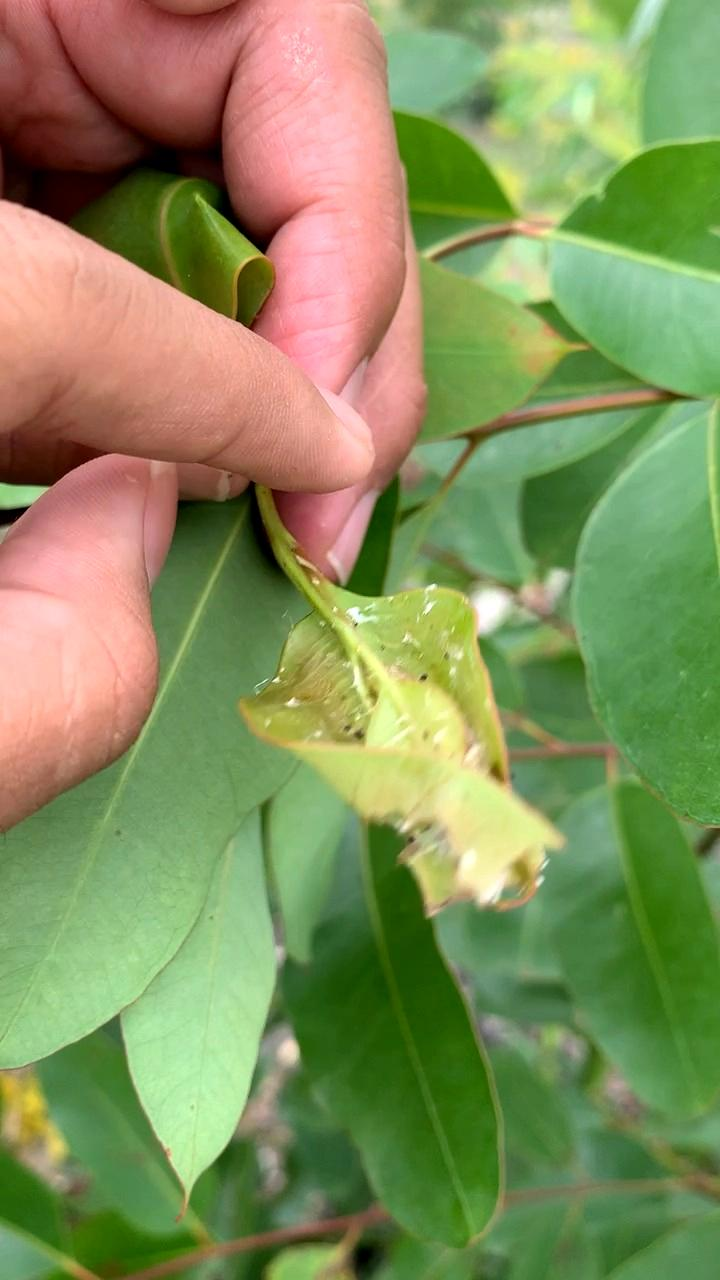Leaf Roller - Leaf: (233, 572, 576, 928)
